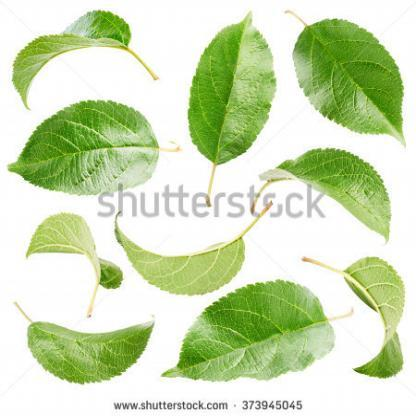Apple leaf: (160, 278, 340, 388), (289, 11, 415, 144), (7, 96, 164, 202), (110, 209, 268, 306), (182, 6, 274, 168), (14, 308, 157, 397), (19, 205, 136, 308), (337, 245, 415, 380)
